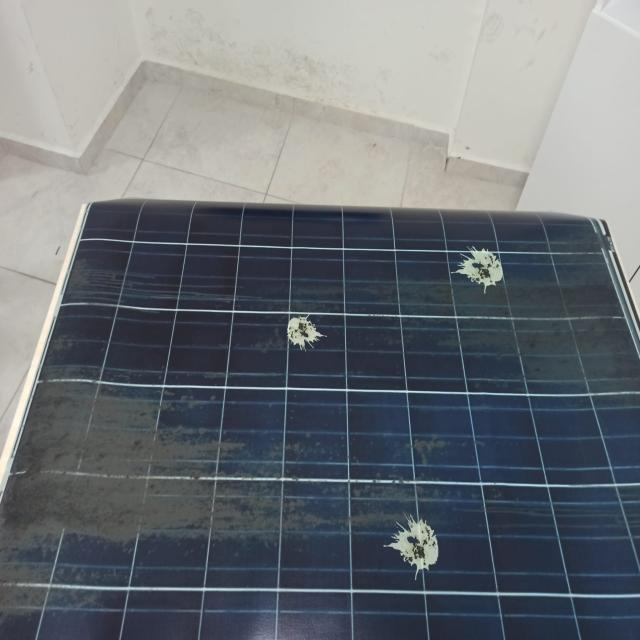Bird-drop: (382, 512, 452, 584), (449, 242, 504, 294), (284, 312, 326, 349)
Dusty: (0, 377, 378, 628)
